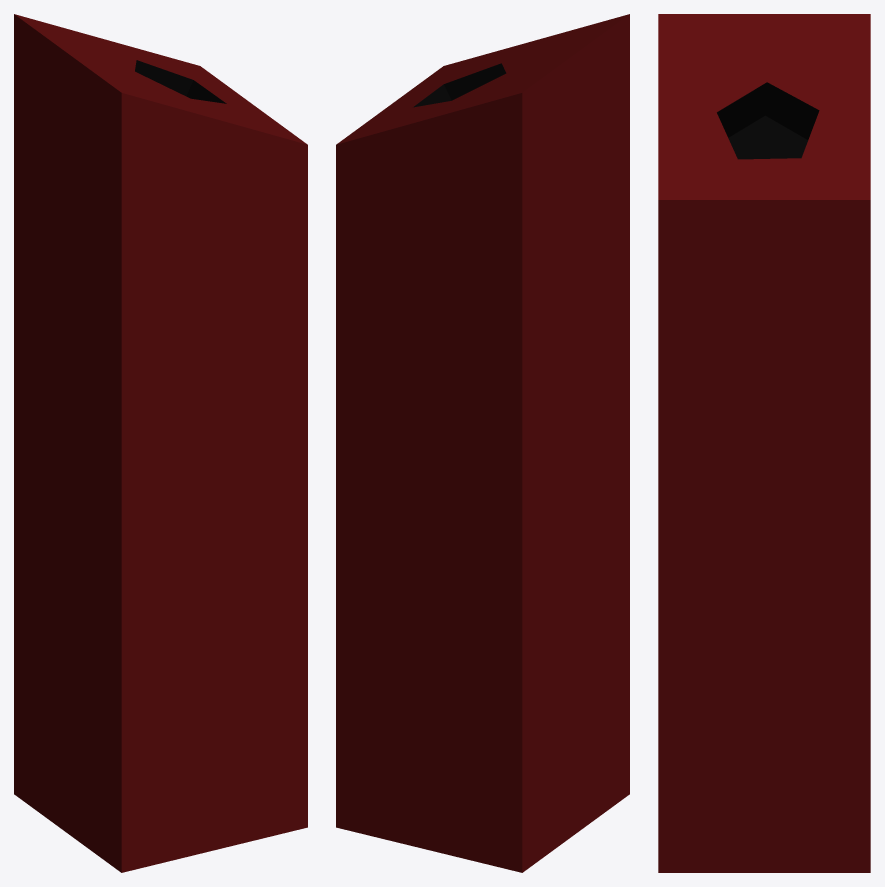
The model's file is rPentaConsole.gltf.
The picture shows the model from 3 angles, left to right: view 1: azimuth 30°, elevation 25°; view 2: azimuth 150°, elevation 25°; view 3: azimuth 270°, elevation 25°; orthographic projection.
Visible parts, largest first — view 1: Cube.001; view 2: Cube.001; view 3: Cube.001.
Boxes of the visible parts, <box> form: Cube.001: <box>14,14,307,872</box>; Cube.001: <box>336,14,629,872</box>; Cube.001: <box>658,14,870,872</box>.
Size of the model in its own units: 2 by 8 by 2.
